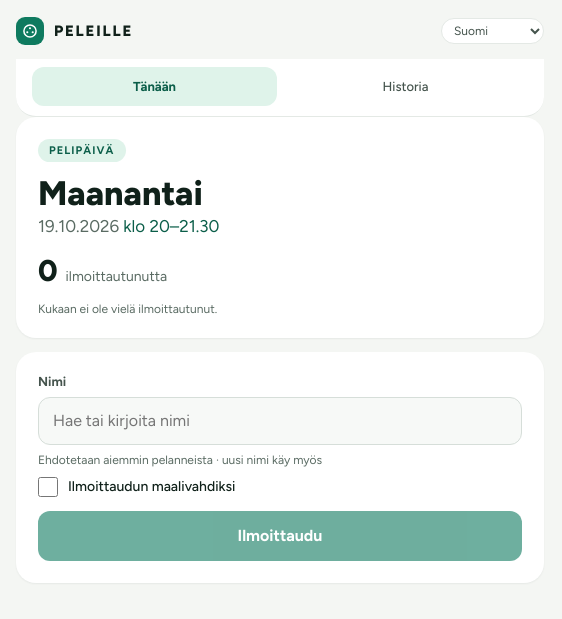
Test: the switcher › changes the page, and says so in the document
Expected: the link "Tänään" is shown, x1=32 y1=67 x2=277 y2=106
Select "Українська" in the dropdown named "Kieli" at (492,31), box x1=441 y1=18 x2=544 y2=44
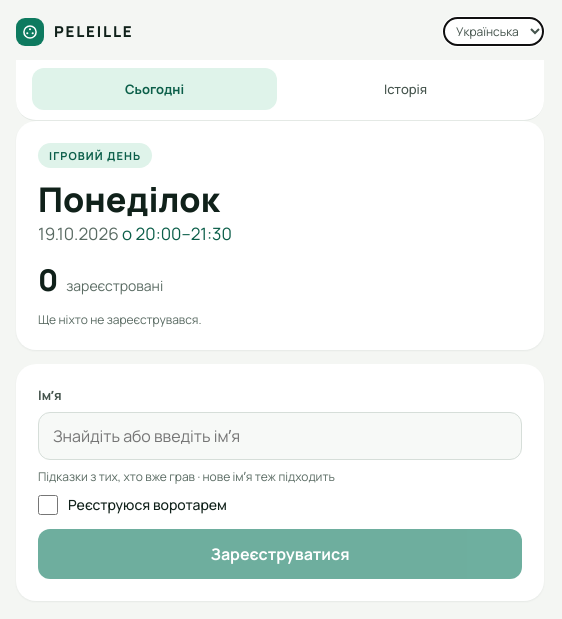
Expected: the link "Сьогодні" is shown, x1=32 y1=68 x2=277 y2=110
